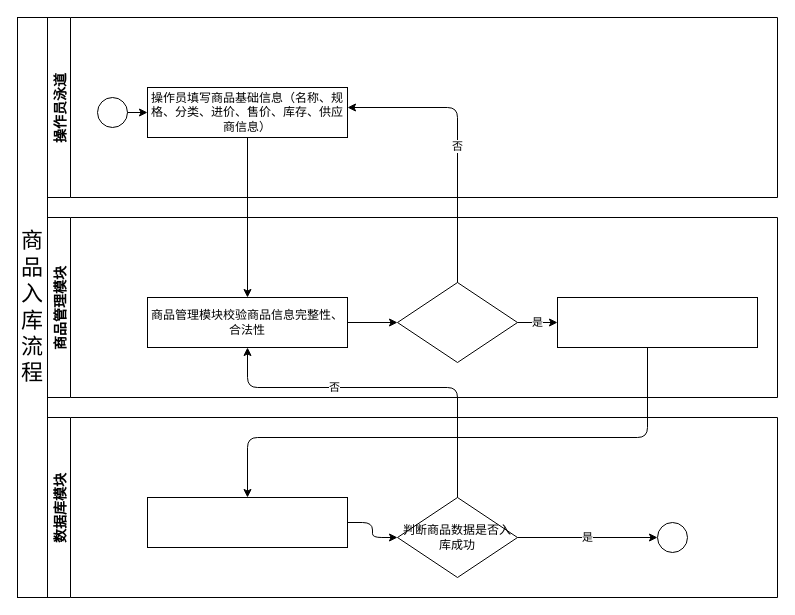
The diagram is 795 pixels wide and 615 high, and some of its shapes have lost their labels. Here are the shapes that lost their labels. From the top down, the centre of each, then its label:
At (x=457, y=322): "判断商品信息是否合规完整".
At (x=657, y=322): "商品管理模块向数据库提交商品新增入库请求".
At (x=247, y=522): "数据库执行商品数据新增存储操作".
